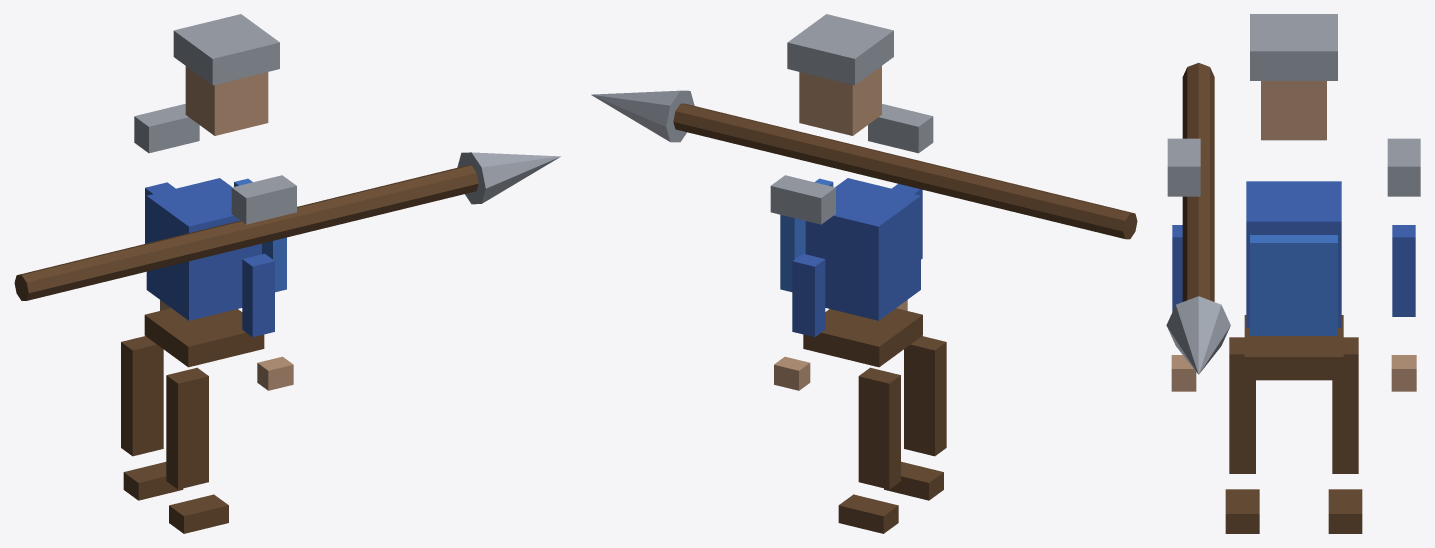
The model's file is vanguard_pikeman.glb.
3 views of the same model, side by side, from view 1: azimuth 30°, elevation 25°; view 2: azimuth 150°, elevation 25°; view 3: azimuth 270°, elevation 25° (orthographic). The views are drawn at different scales.
Visible parts, largest first — view 1: vanguard_pikeman; view 2: vanguard_pikeman; view 3: vanguard_pikeman.
Boxes of the visible parts, x1=… form: vanguard_pikeman: x1=14, y1=14, x2=560, y2=533; vanguard_pikeman: x1=591, y1=14, x2=1137, y2=533; vanguard_pikeman: x1=1166, y1=14, x2=1420, y2=533.
Size of the model in its own units: 48 by 38.88 by 17.32.
